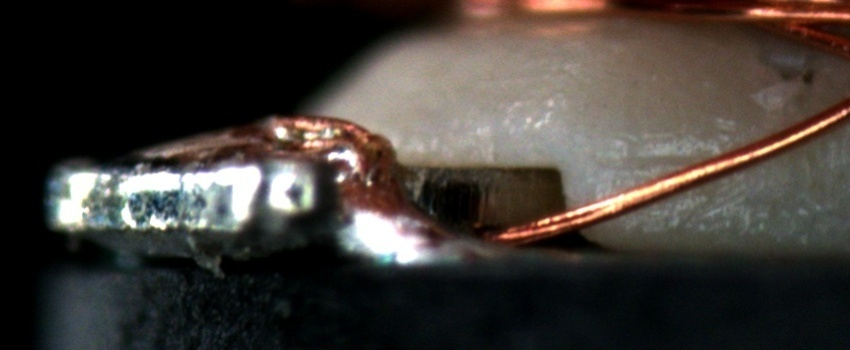DL: (593, 129, 720, 188)
TE: (255, 109, 393, 137)
